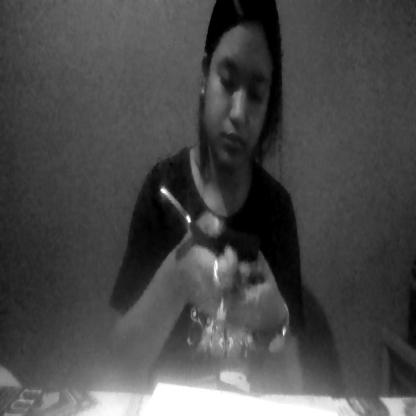Normal: (194, 5, 285, 173)
